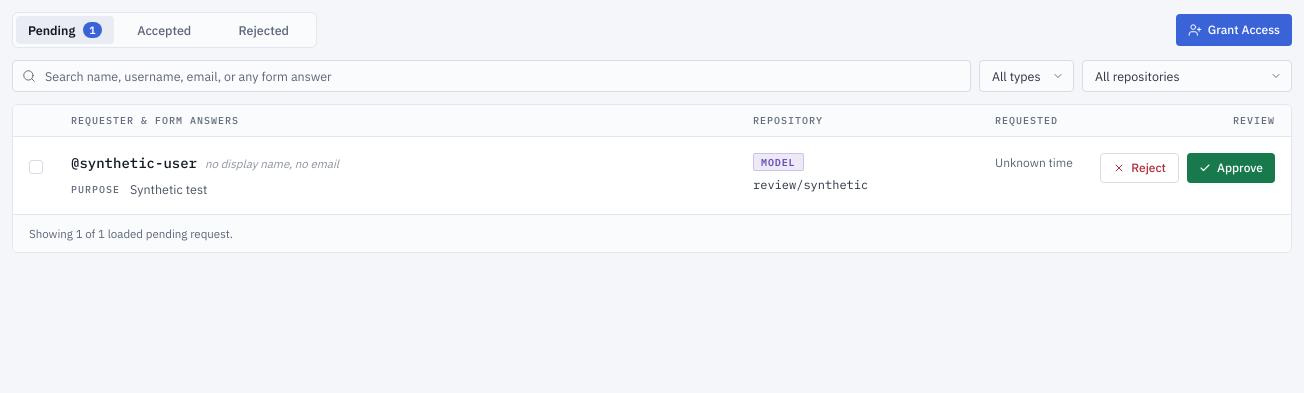
Test: real dashboard integration › leaves no actionable surface for a request reconciliation no longer finds
Check: the link "@synthetic-user" is shown, box [71,153,197,173]
What coordinates should you click on to do the following:
click the button "Approve"
I would click on:
 (1231, 168)
Its box is [1187,153,1275,183].
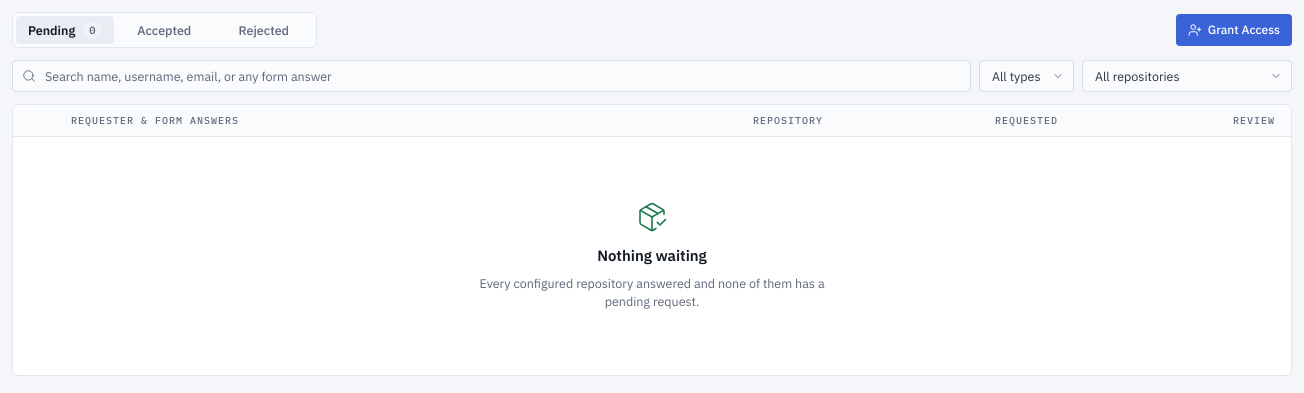
Check: the link "@synthetic-user" is gone
Check: the button "Approve" is gone
